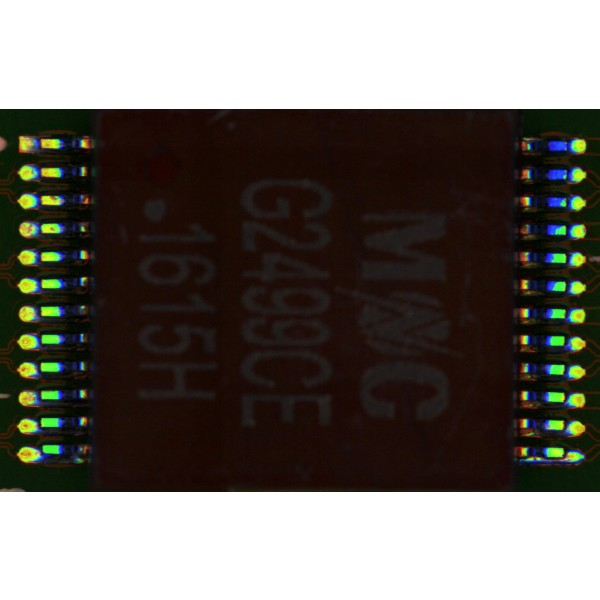Bad_qiaojiao: (519, 457, 560, 462)
